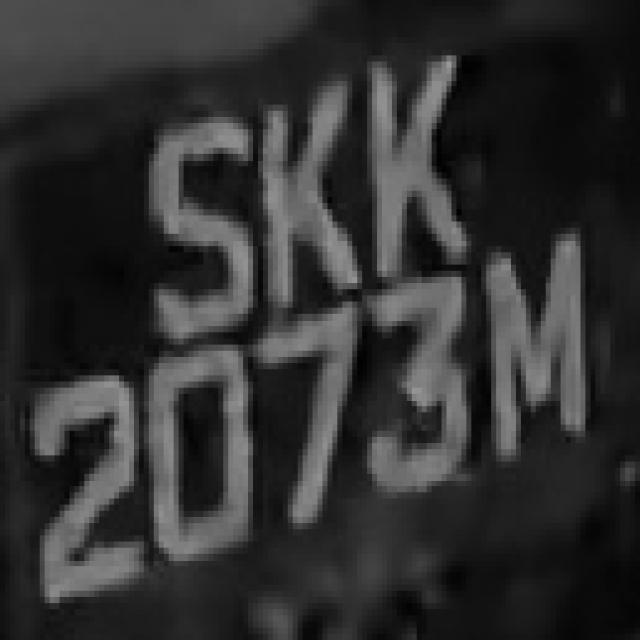0: (144, 320, 263, 572)
2: (15, 363, 149, 622)
3: (352, 246, 477, 517)
7: (253, 277, 362, 535)
K: (357, 49, 476, 271), (243, 80, 352, 295)
M: (472, 228, 590, 468)
S: (134, 98, 258, 351)
